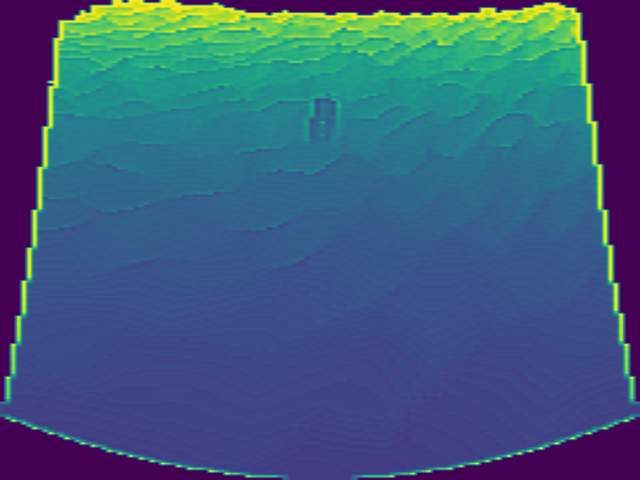car_0198: (306, 95, 337, 141)
